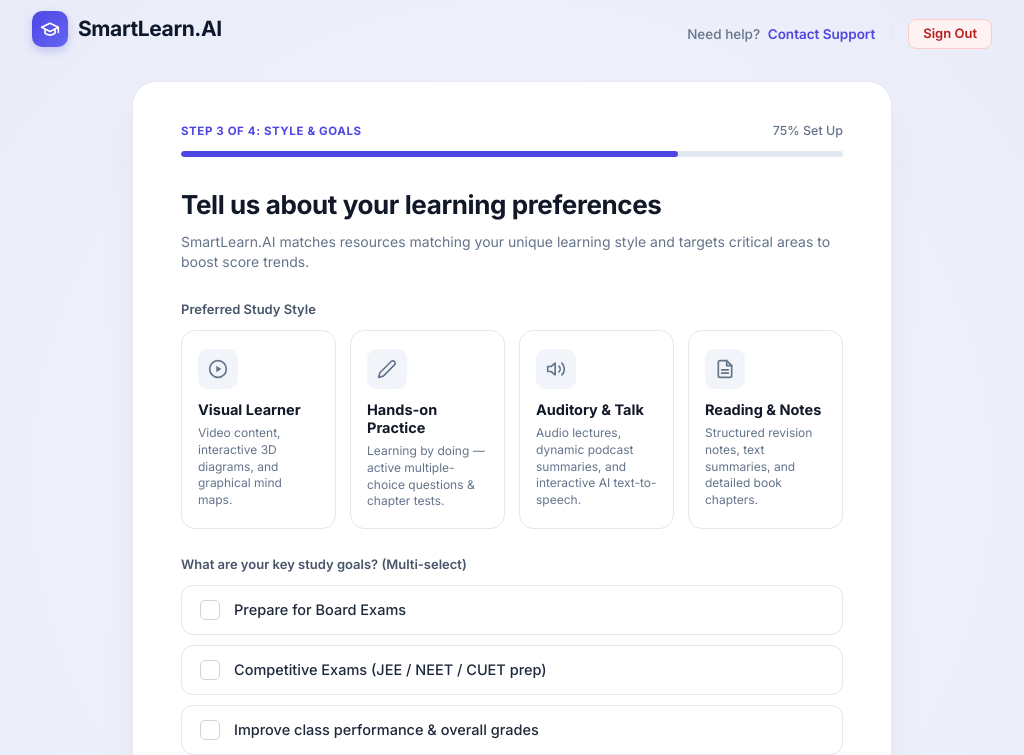
Test: Step3Page Component (Onboarding Step 3 of 4: Style & Goals) › 4. Goal fields are validated according to backend requirements
The width and height of the screenshot is (1024, 755).
// Select only learning style
Click the radio button labelled "Visual Learner": (258, 430) [181,330,336,529]
(page scrolled)
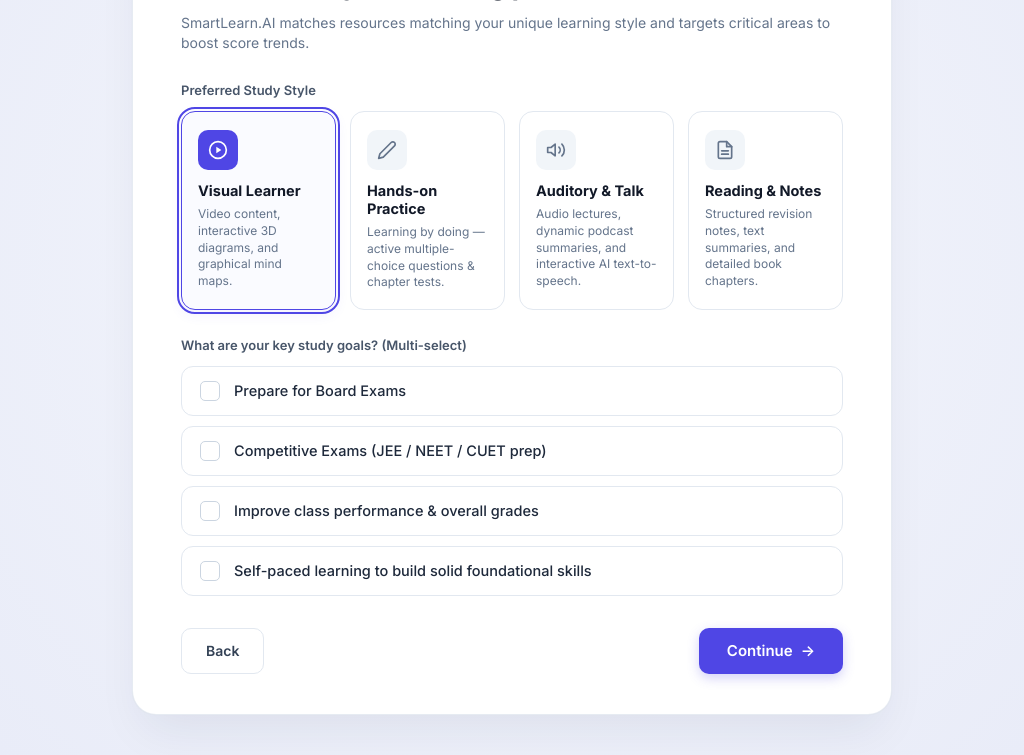
// Click Continue without selecting any goals
Click the button "Continue →": (771, 651) [699,628,843,674]
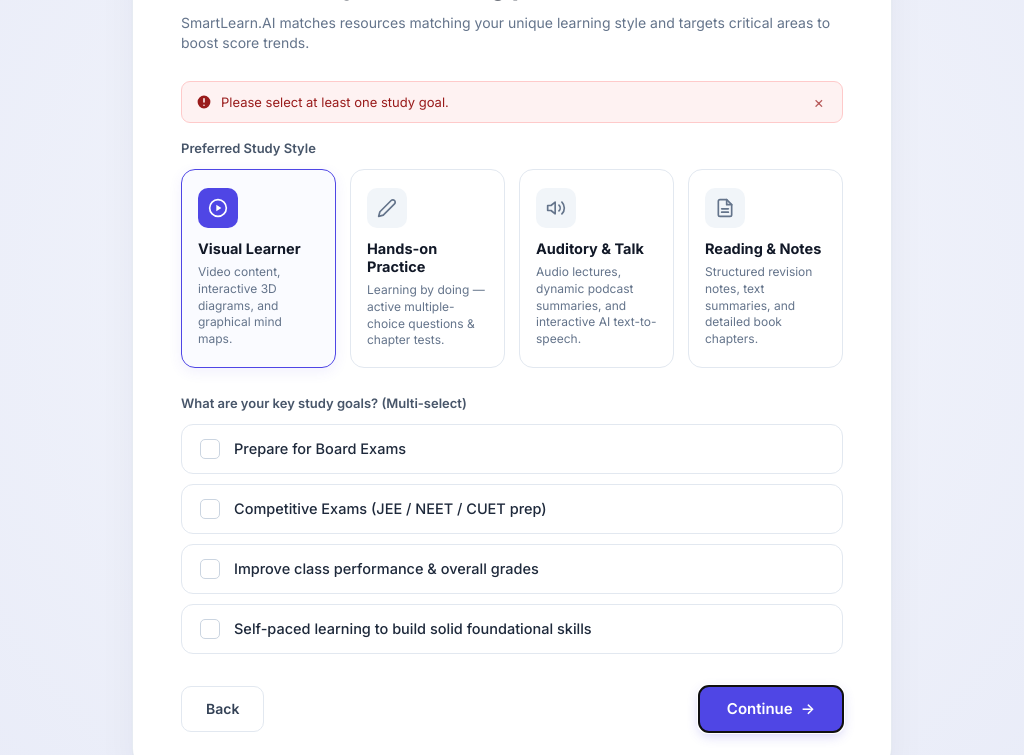
Now the text "Please select at least one study goal." is shown, box [221,93,449,112]
